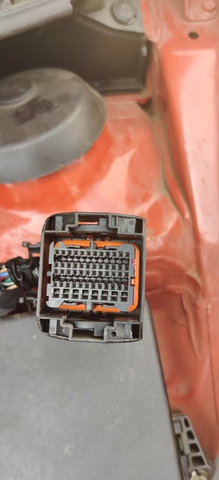connector: (36, 212, 146, 344)
